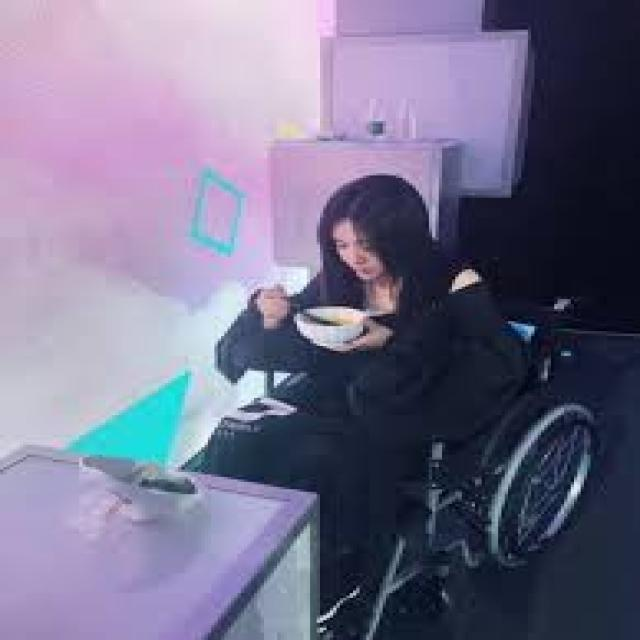wheelchairs: (238, 279, 636, 593)
